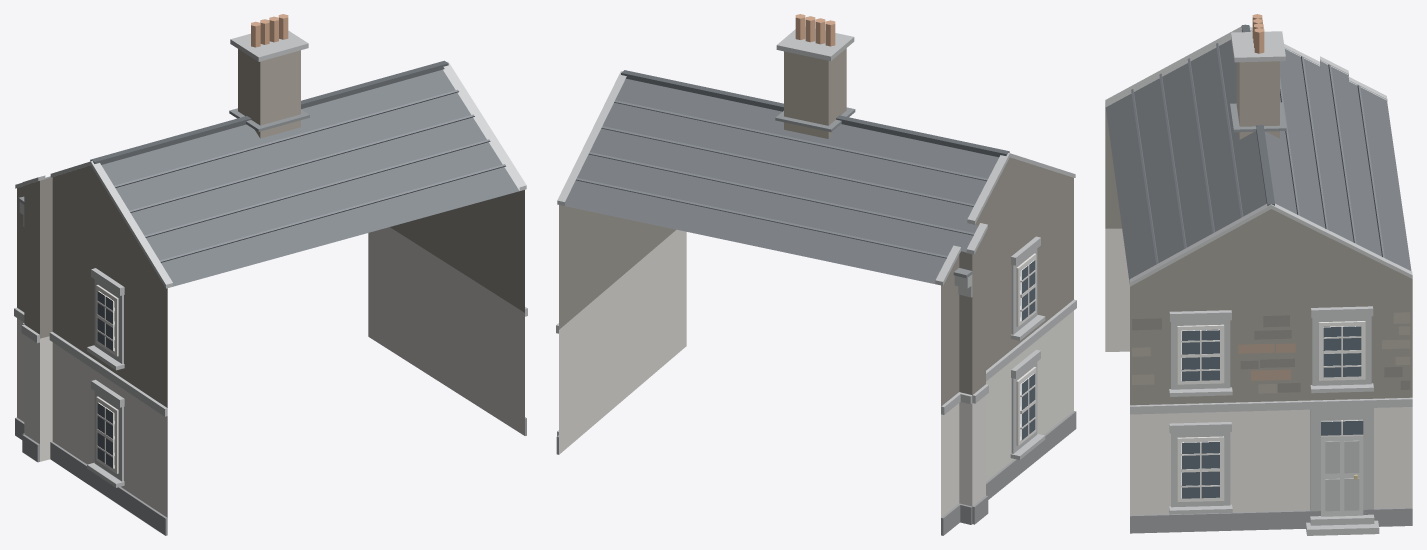
3 renders of one model, left to right at view 1: azimuth 30°, elevation 25°; view 2: azimuth 150°, elevation 25°; view 3: azimuth 270°, elevation 25°, orthographic.
Parts seen in each view (by area): view 1: slate, harl, rubble, stone_band, slate_lt, chim_stone, plinth, slate_dk, frame, pot, window_glass_005, window_glass_006; view 2: slate, harl, rubble, stone_band, slate_lt, chim_stone, slate_dk, plinth, frame, pot, window_glass_005, lead (+1 smaller); view 3: slate, rubble, stone_band, harl, slate_lt, frame, plinth, chim_stone, rubble_dk, door_cad_p, window_glass_001, window_glass_002 (+8 smaller).
Boxes of the visible parts, left/top/right/bottom form: slate: left=101, top=69, right=519, bottom=286; harl: left=17, top=227, right=524, bottom=517; rubble: left=17, top=165, right=524, bottom=407; stone_band: left=14, top=30, right=527, bottom=487; slate_lt: left=45, top=89, right=505, bottom=262; chim_stone: left=238, top=49, right=300, bottom=138; plinth: left=15, top=417, right=526, bottom=535; slate_dk: left=90, top=60, right=448, bottom=164; frame: left=96, top=285, right=118, bottom=473; pot: left=251, top=14, right=288, bottom=47; window_glass_005: left=97, top=402, right=114, bottom=468; window_glass_006: left=97, top=291, right=114, bottom=350; slate: left=565, top=78, right=998, bottom=284; harl: left=559, top=229, right=1073, bottom=517; rubble: left=559, top=157, right=1073, bottom=406; stone_band: left=556, top=27, right=1076, bottom=459; slate_lt: left=576, top=100, right=987, bottom=258; chim_stone: left=784, top=48, right=846, bottom=138; slate_dk: left=621, top=70, right=1009, bottom=157; plinth: left=556, top=411, right=1076, bottom=535; frame: left=1016, top=253, right=1036, bottom=445; pot: left=795, top=14, right=835, bottom=46; window_glass_005: left=1020, top=373, right=1035, bottom=440; lead: left=775, top=107, right=972, bottom=278; slate: left=1105, top=31, right=1411, bottom=282; rubble: left=1105, top=106, right=1412, bottom=405; stone_band: left=1105, top=24, right=1412, bottom=535; harl: left=1105, top=228, right=1412, bottom=514; slate_lt: left=1131, top=43, right=1384, bottom=264; frame: left=1177, top=321, right=1365, bottom=501; plinth: left=1130, top=507, right=1412, bottom=533; chim_stone: left=1236, top=61, right=1279, bottom=139; rubble_dk: left=1132, top=315, right=1410, bottom=392; door_cad_p: left=1325, top=440, right=1359, bottom=511; window_glass_001: left=1181, top=441, right=1219, bottom=498; window_glass_002: left=1181, top=329, right=1219, bottom=381.
Size of the model in its own units: 10.91 by 10.79 by 7.24.
